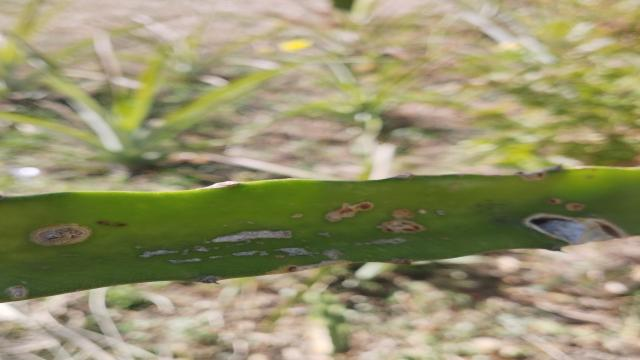stemcanker: (373, 206, 428, 237), (326, 200, 375, 224), (527, 192, 557, 208), (557, 199, 590, 213)
